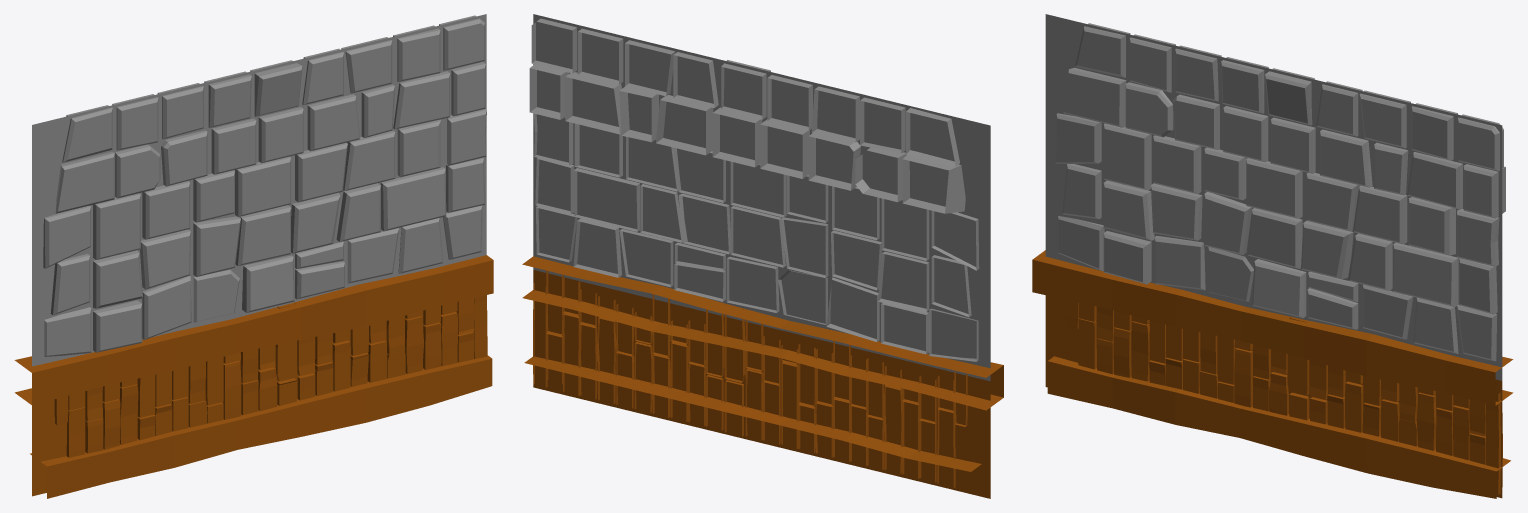
File: Wall_LP.fbx
The picture shows the model from 3 angles, left to right: view 1: azimuth 30°, elevation 25°; view 2: azimuth 150°, elevation 25°; view 3: azimuth 330°, elevation 25°; orthographic projection.
Visible parts, largest first — view 1: Cube; view 2: Cube; view 3: Cube.
Part boxes in pixels (x1,y1,x2,y2): Cube: (14, 14, 493, 498); Cube: (522, 14, 1003, 498); Cube: (1032, 14, 1513, 498).
Bounding box in the file's own units: 596 × 459 × 43.04.
